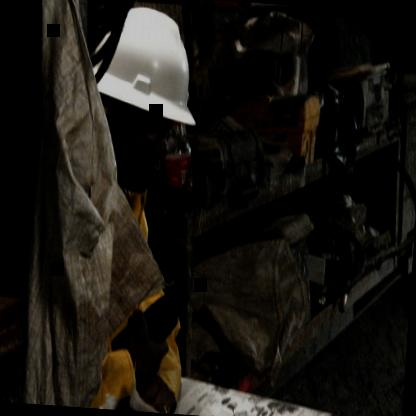helmet: (70, 0, 209, 233)
